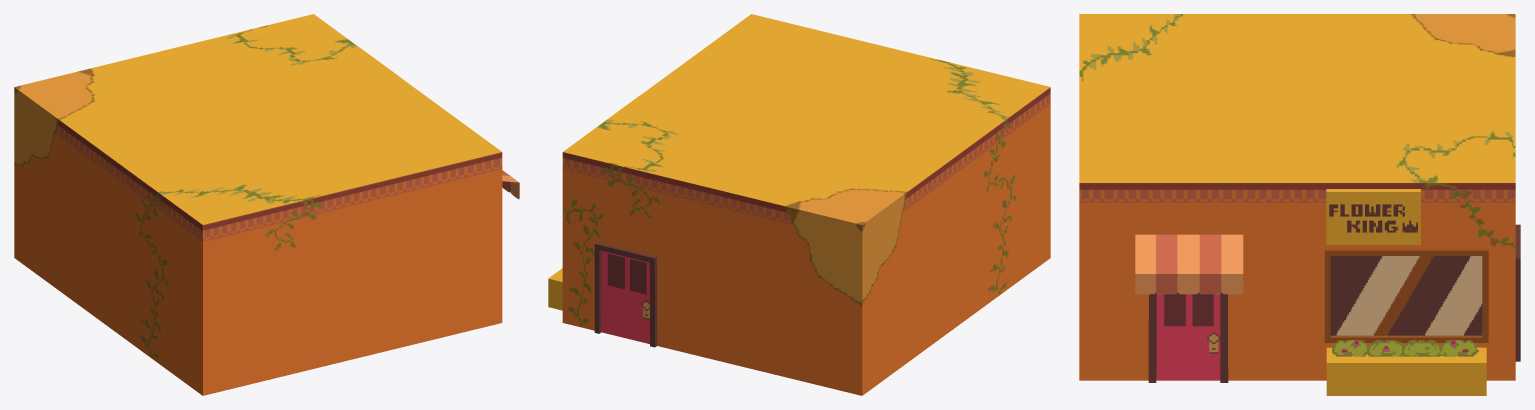
Rendered from flowerking.glb.
3 views of the same model, side by side, from view 1: azimuth 30°, elevation 25°; view 2: azimuth 150°, elevation 25°; view 3: azimuth 270°, elevation 25° (orthographic). The views are drawn at different scales.
Visible parts, largest first — view 1: store; view 2: store; view 3: store.
Boxes of the visible parts, x1,y1,x2,y2 form: store: [14, 14, 519, 395]; store: [548, 14, 1050, 395]; store: [1079, 14, 1520, 395].
Size of the model in its own units: 12.52 by 6 by 12.14.
2 materials, 2 textured.
